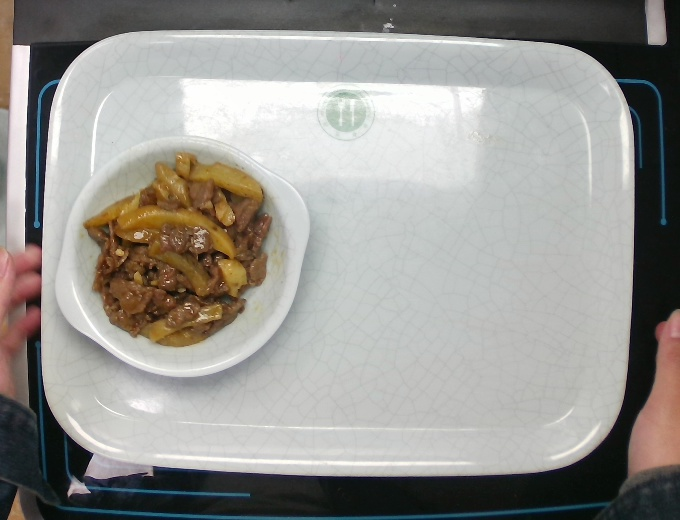JYsf-Shuang_Er_Wan: (51, 132, 313, 379)
